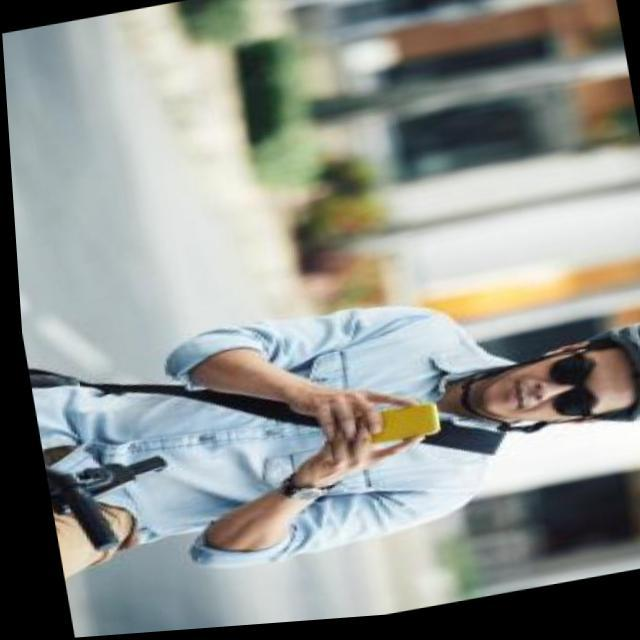use_mobile: (277, 377, 440, 485)
